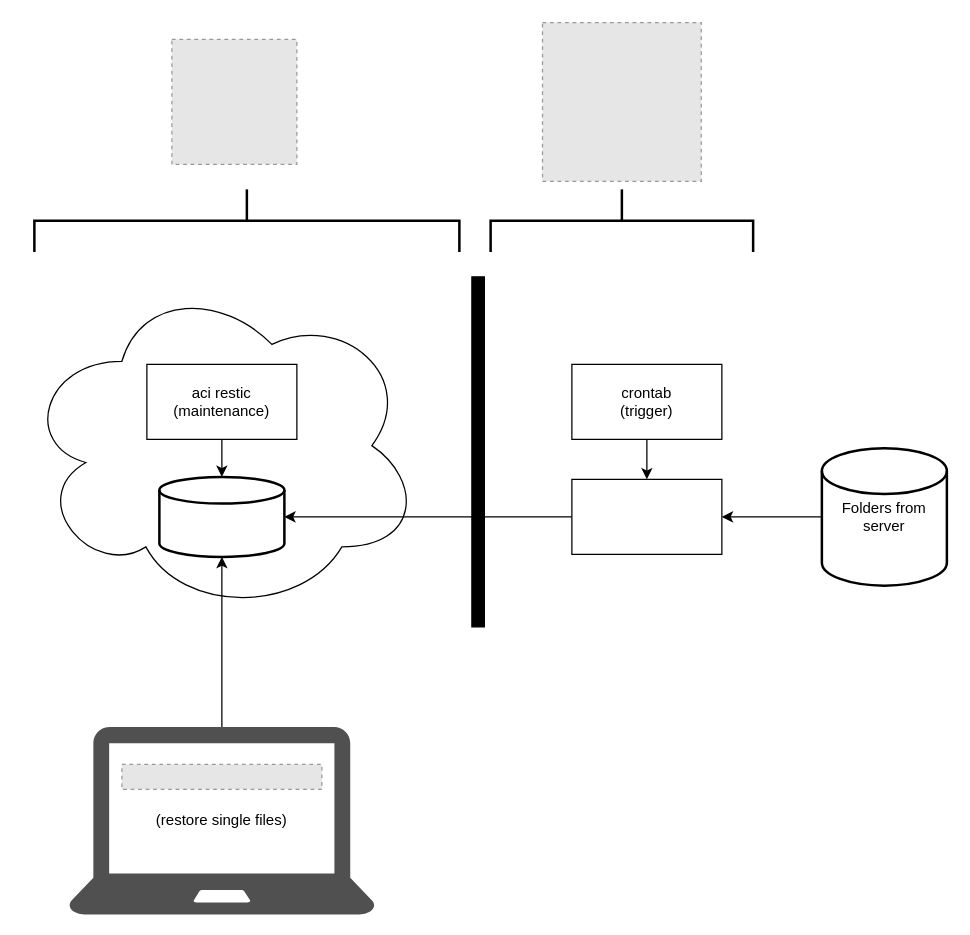
The diagram is 970 pixels wide and 935 high, and some of its shapes have lost their labels. Grey dashed boxes stand in for pictures. Each missing label, with the centre of its shape:
azure storage: point (221, 516)
restic (backup): point (646, 516)
